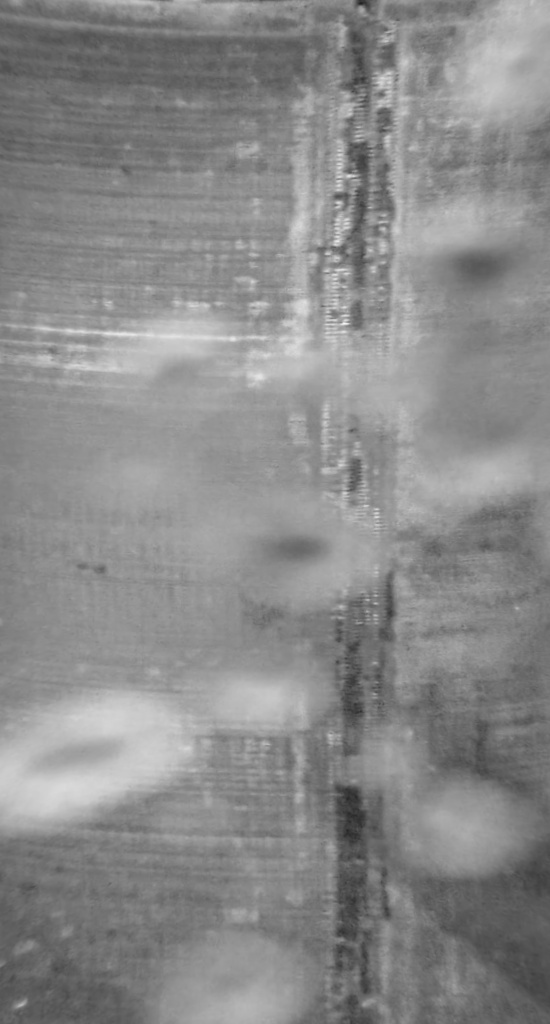splice: (317, 1, 414, 1023)
